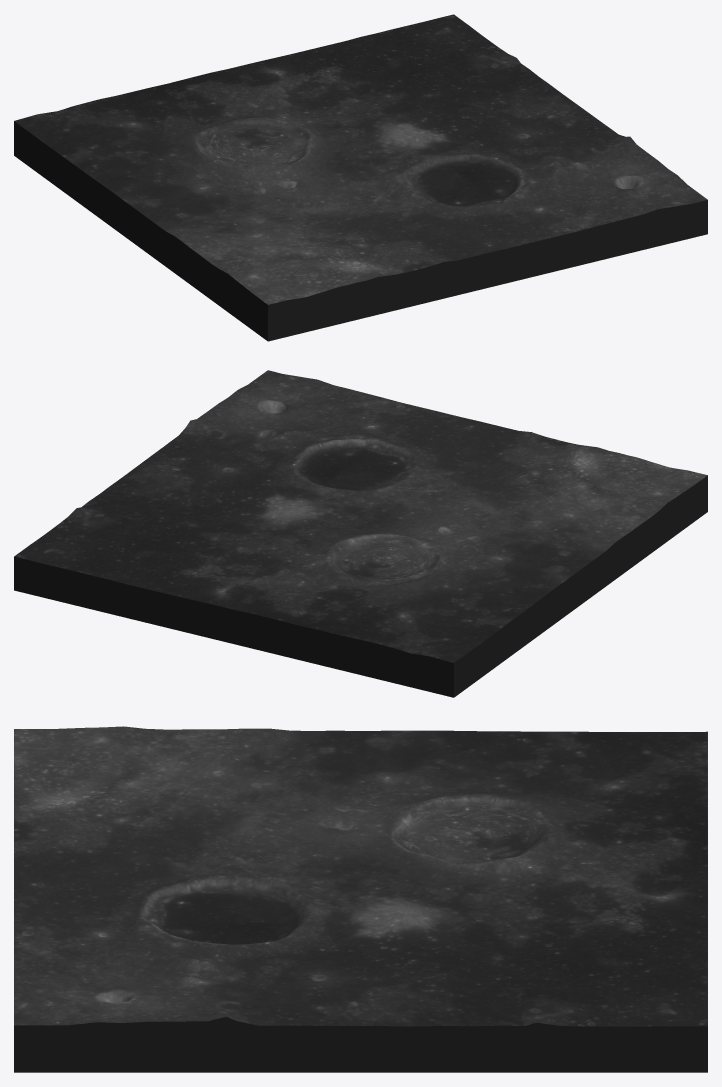
The model's file is moon_-_hansteen__billy_craters.glb.
3 renders of one model, top to bottom at view 1: azimuth 30°, elevation 25°; view 2: azimuth 150°, elevation 25°; view 3: azimuth 270°, elevation 25°, orthographic. The views are drawn at different scales.
Visible parts, largest first — view 1: Moon; view 2: Moon; view 3: Moon.
Part boxes in pixels (x1,y1,x2,y2): Moon: (14, 14, 707, 341); Moon: (14, 370, 707, 697); Moon: (14, 726, 707, 1072).
Bounding box in the file's own units: 1998 × 181 × 1998.
Materials: 2 (1 with a texture image).
